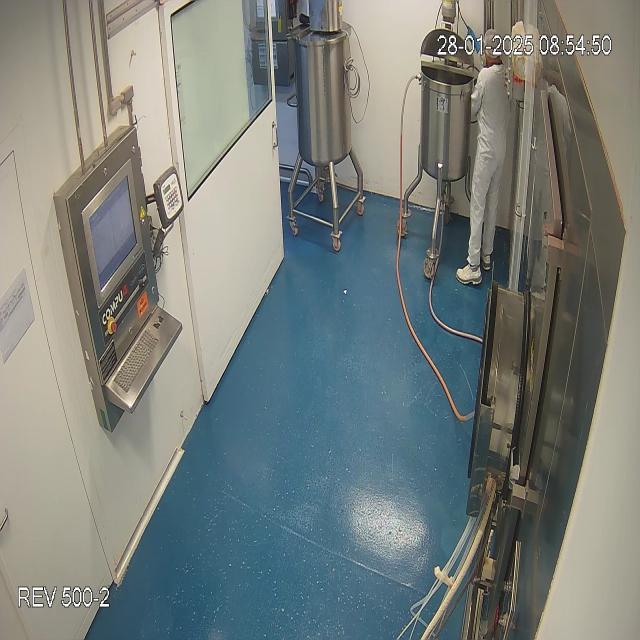bota: (457, 247, 494, 290)
pessoa: (454, 28, 510, 288)
touca: (476, 27, 509, 67)
